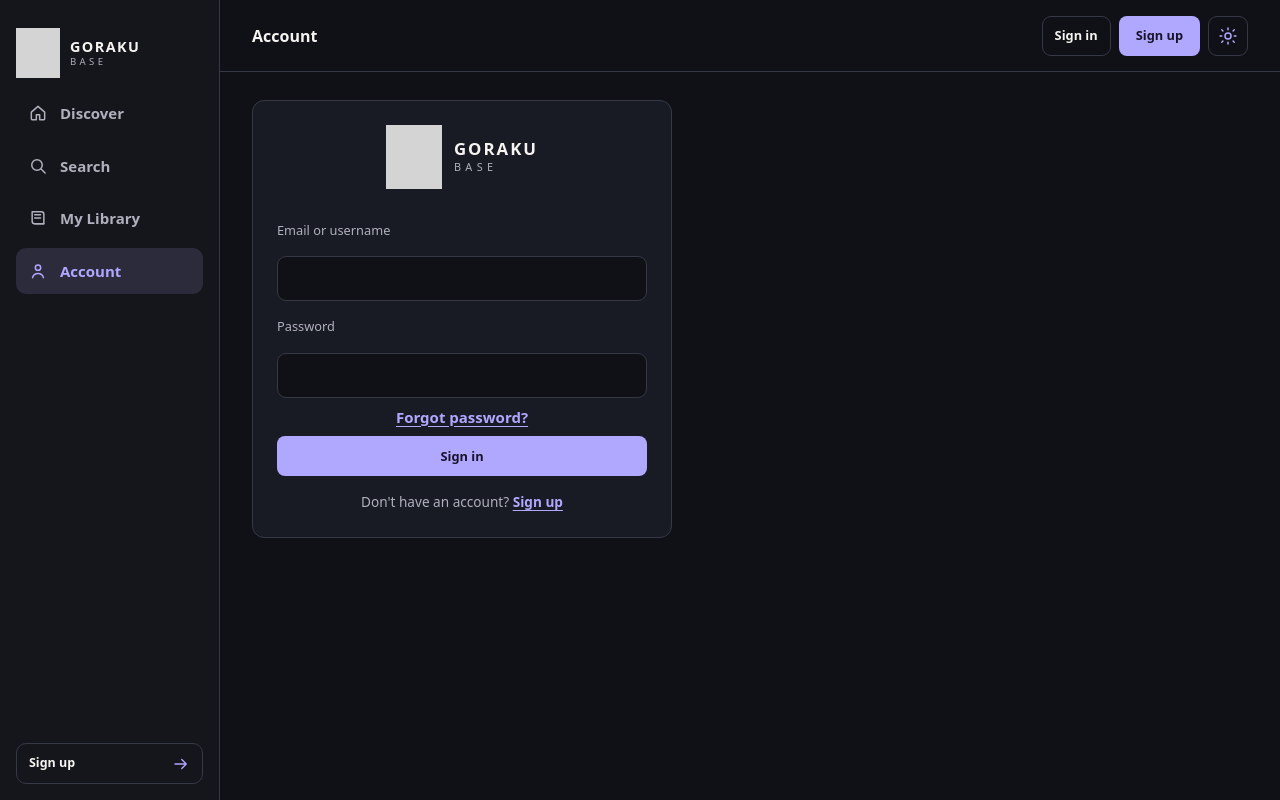
Scenario: authentication and library experience › saves a Media reference and updates, favorites, and removes Library Items
Earlier steps of the test are not shown.
Later steps or results of the test are not shown.
In the field labelled "Email or username": (462, 279) [277, 256, 647, 302], type "reader"
In the password field labelled "Password": (462, 375) [277, 353, 647, 398], type "correct horse!"
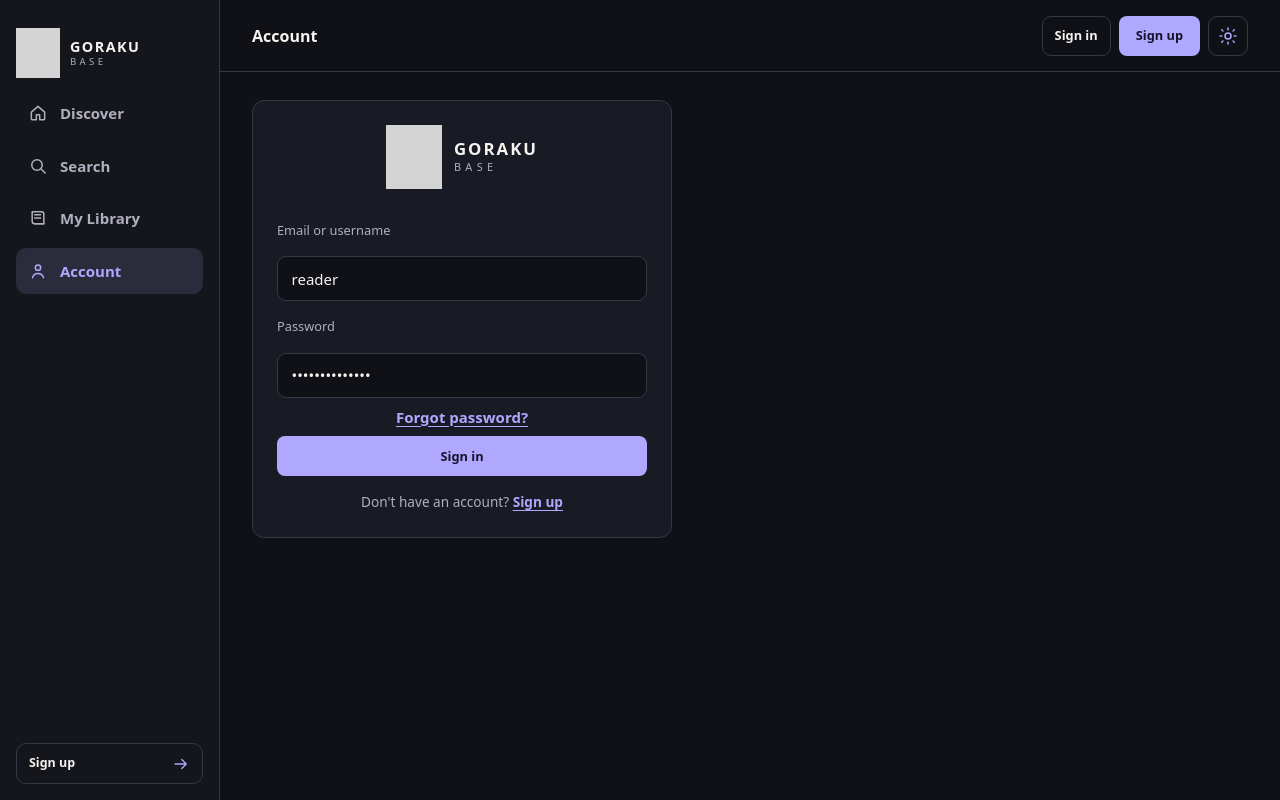
Submit the form with class "auth-form", box [252, 100, 672, 538]
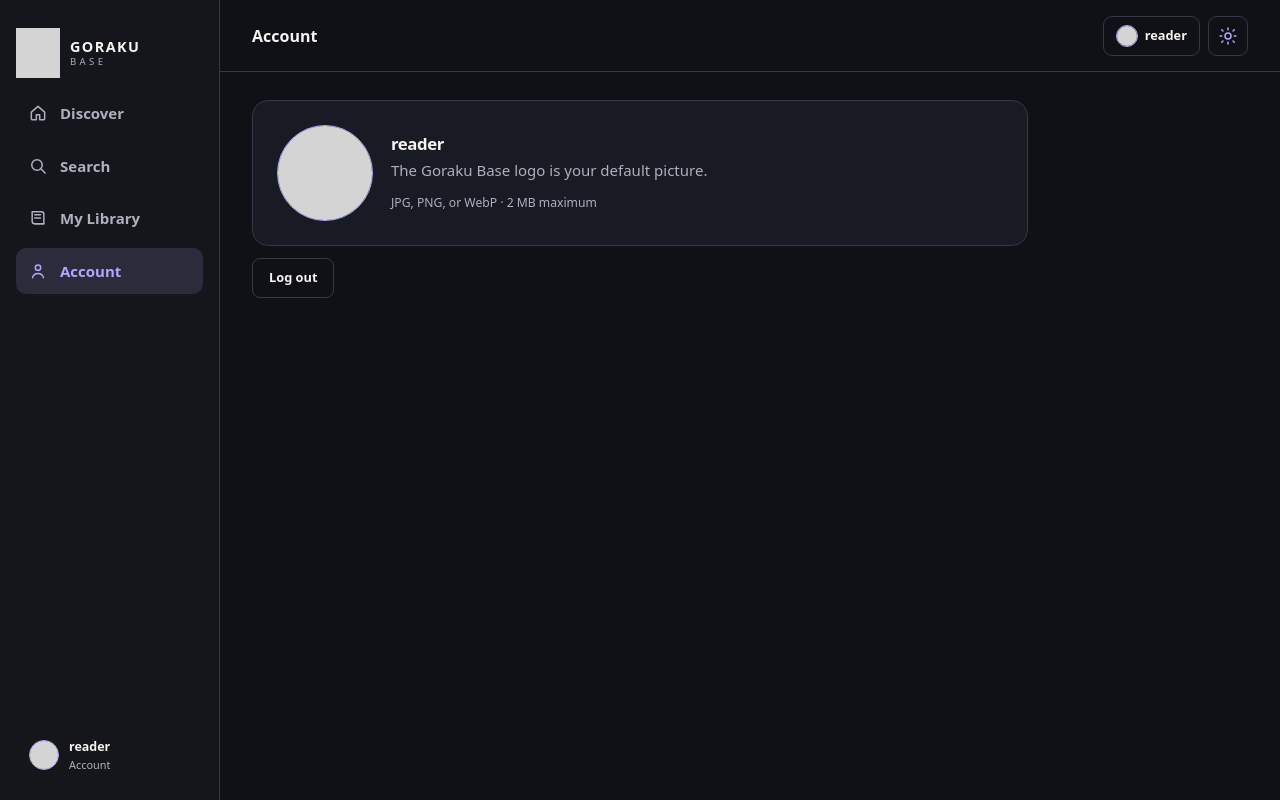
Click the button "Search": click(110, 166) [16, 142, 203, 189]
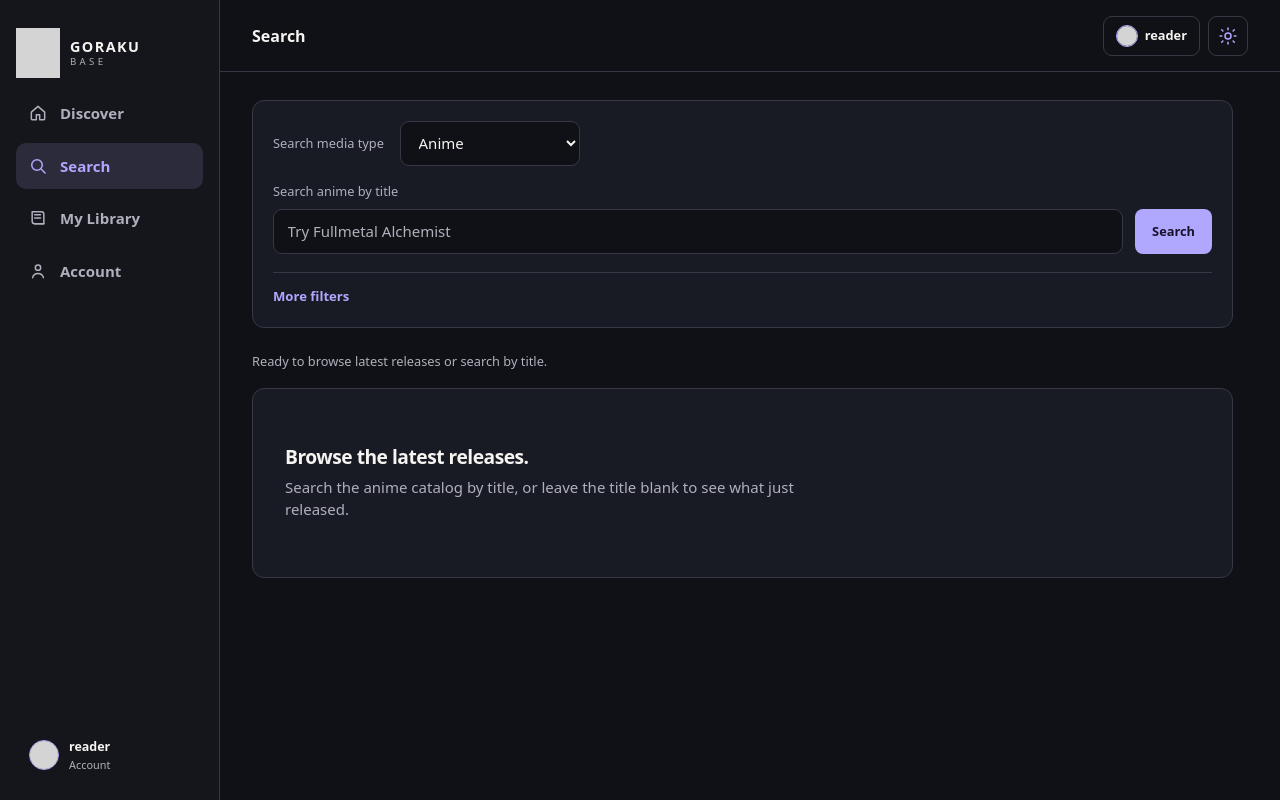
In the search field labelled "Search anime by title": (698, 232) [273, 209, 1123, 254], type "arrival"
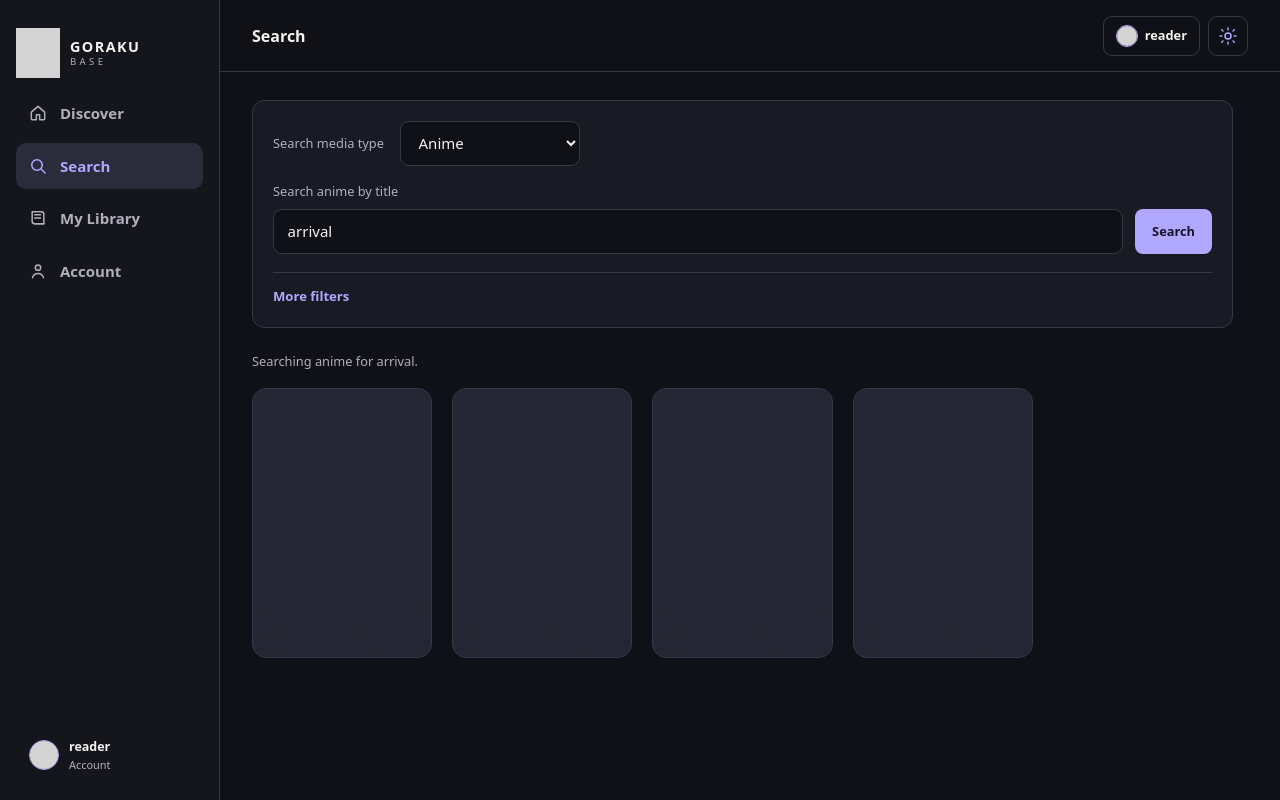
Submit the form "Search anime by title", box [252, 100, 1233, 328]
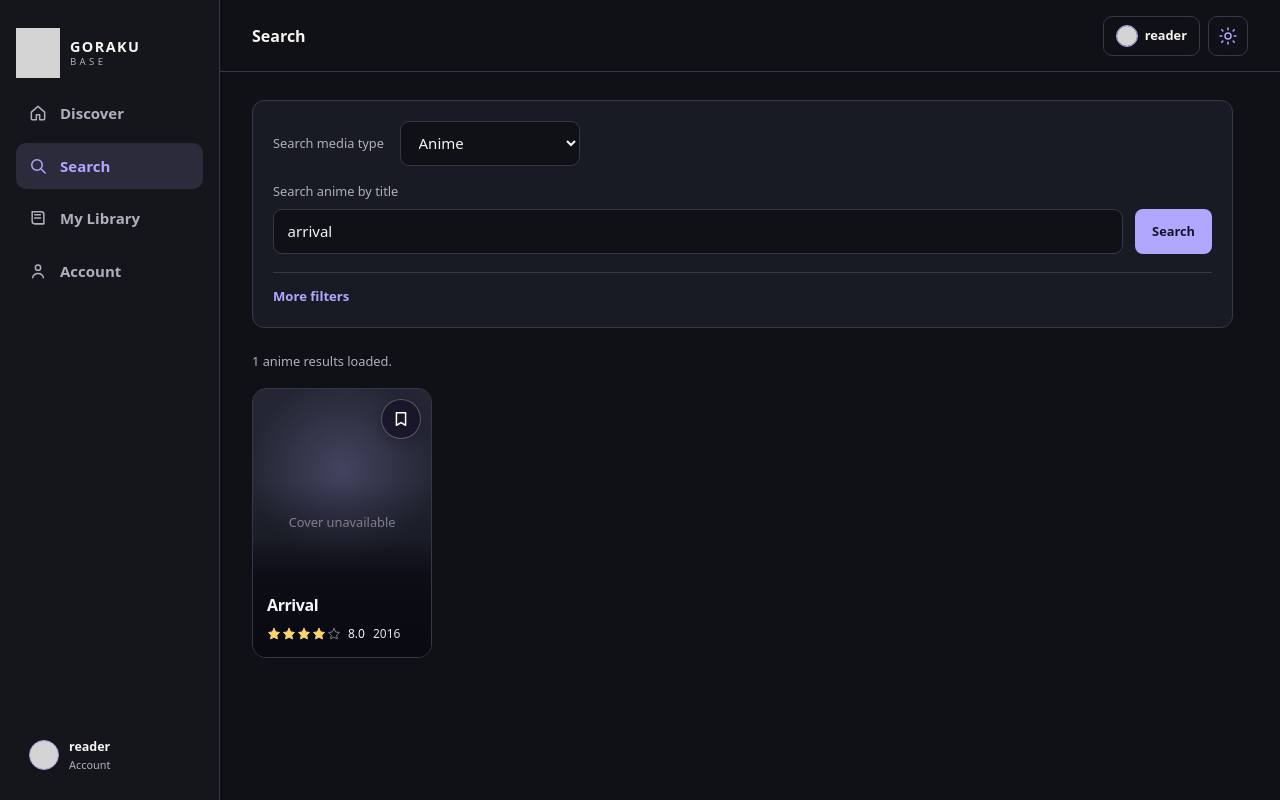
Now the heading "Arrival" is shown, box [267, 594, 318, 616]
Click the button named "Save to library": click(401, 419) [381, 399, 421, 439]
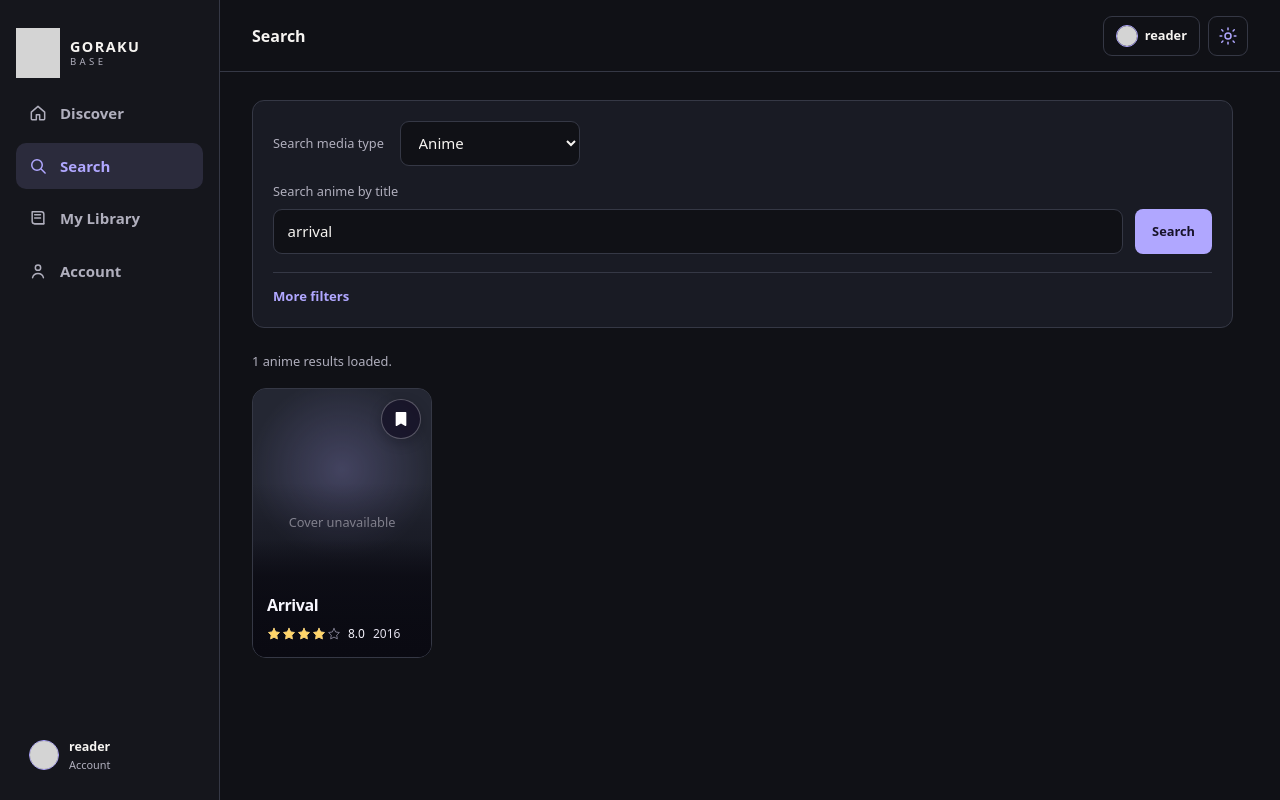
Now the button named "Remove from library" is shown, box [381, 399, 421, 439]
